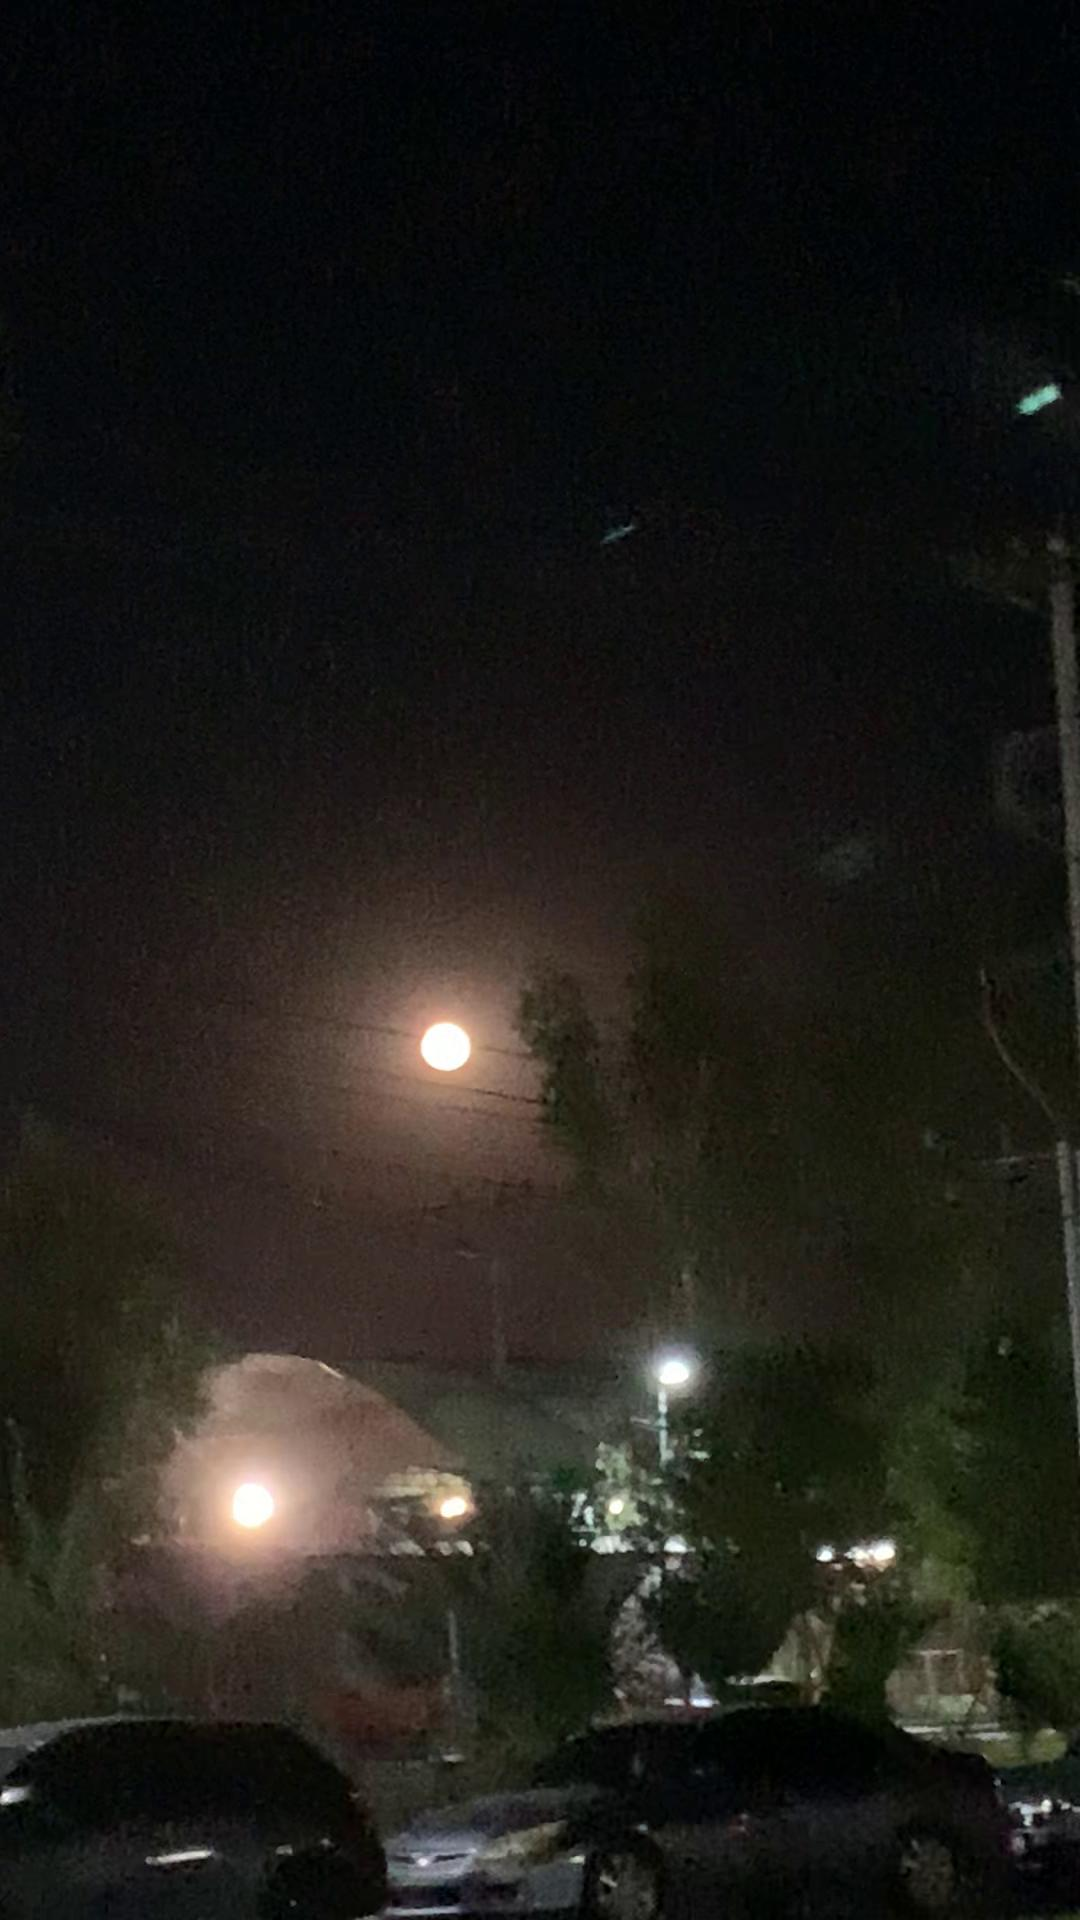moon: (411, 992, 500, 1067)
